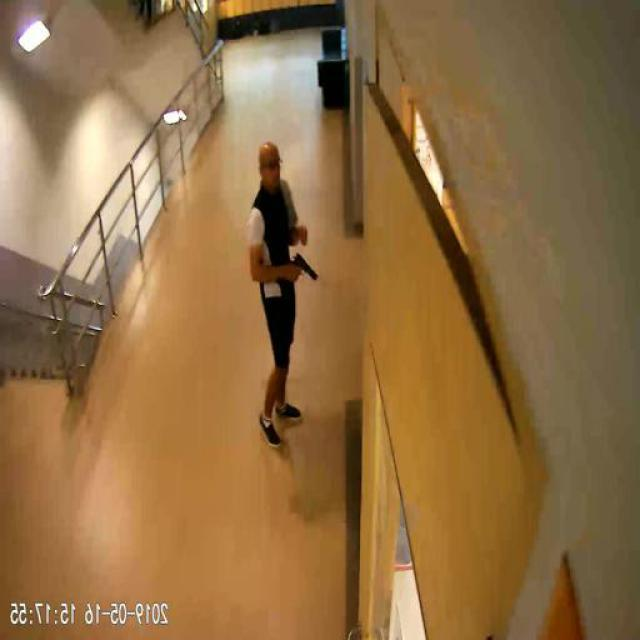Gun: (295, 252, 320, 280)
